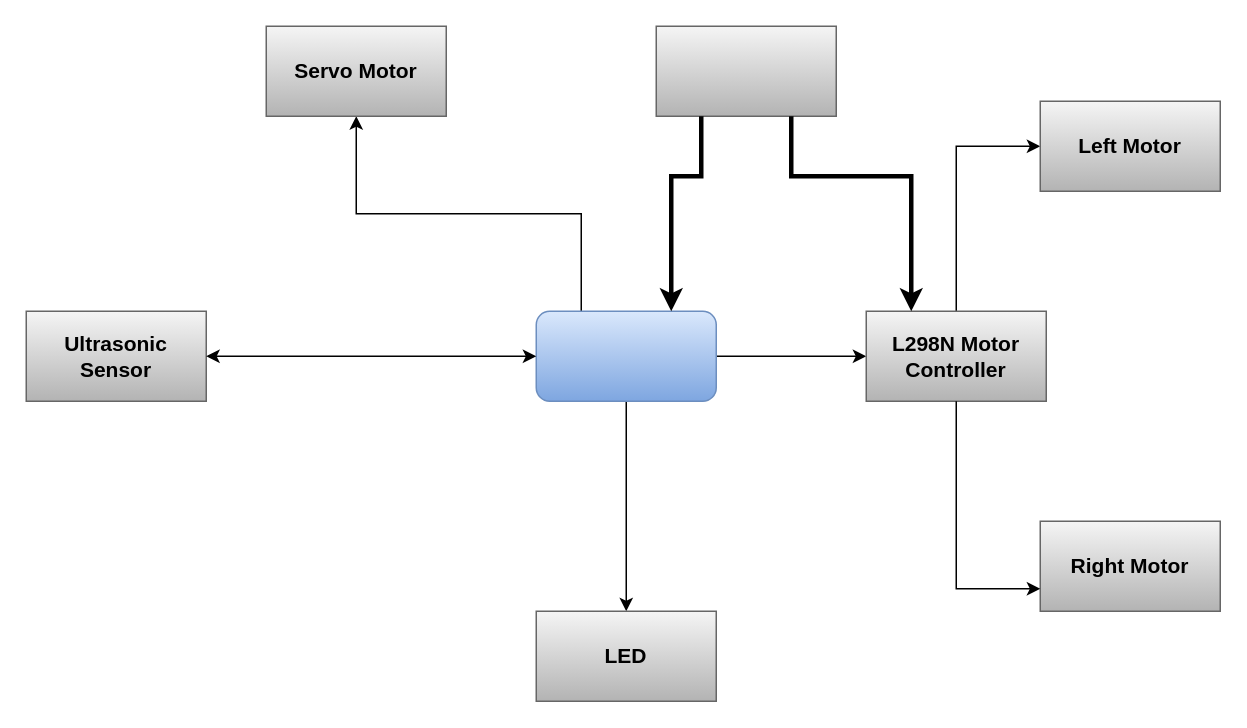
This 1247x728 diagram has some shape labels left out. The centre of each missing label's shape, as x and y in pixels:
"Arduino" belongs at [625,355].
"Power Supply" belongs at [745,70].
